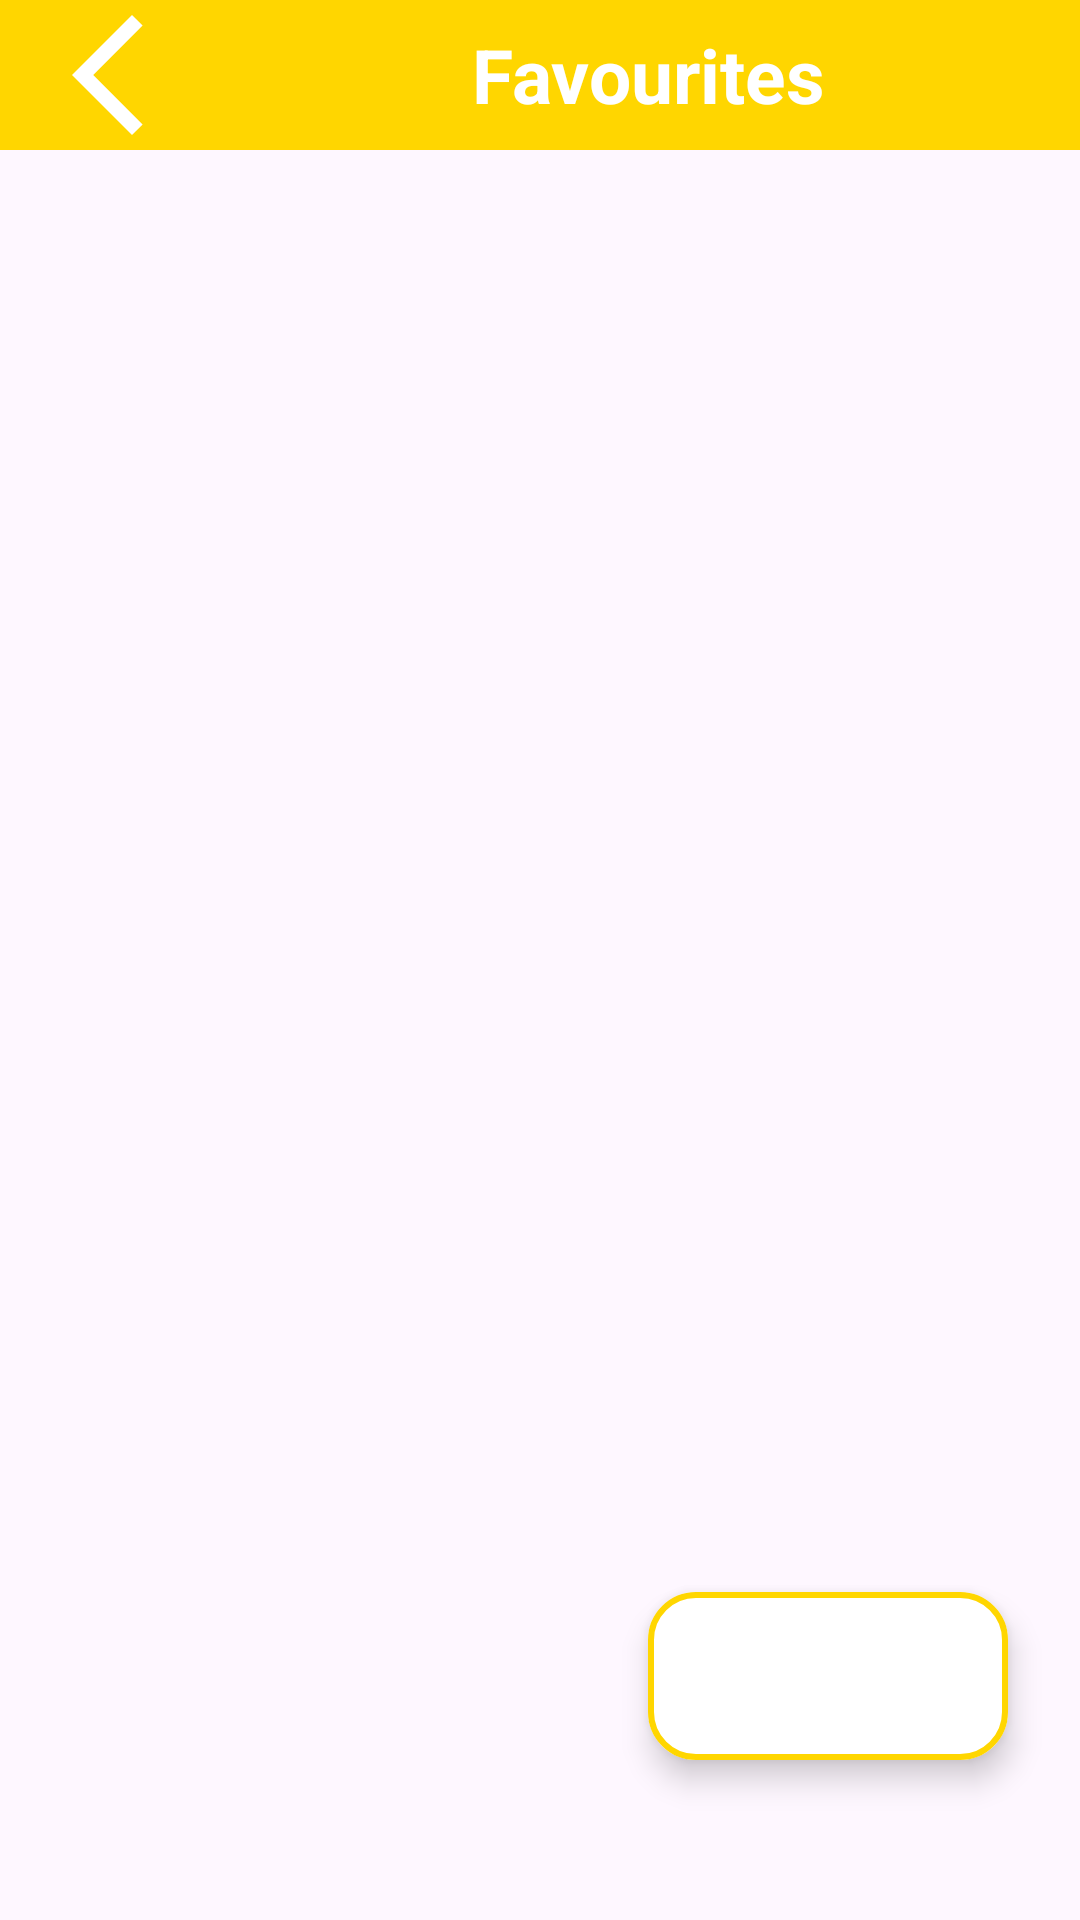

Icons on this 1080px x 1920px Android screen, each with the point to tap as point (x, y):
Back: point (107, 75)
